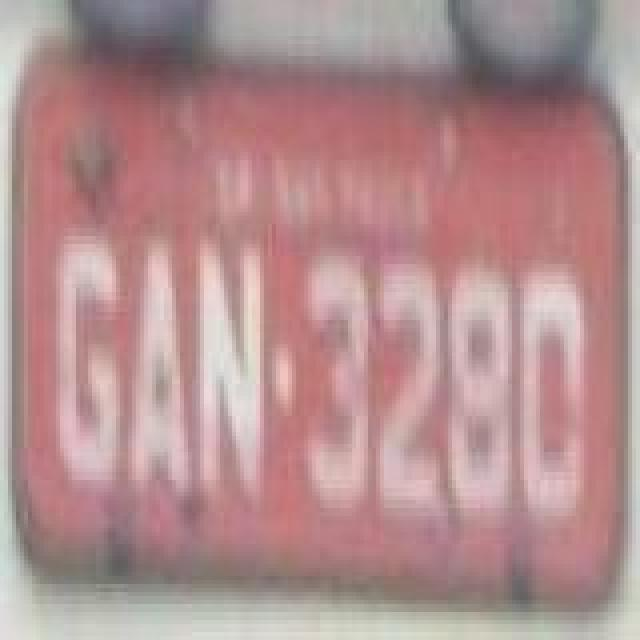2: (374, 264, 442, 520)
3: (300, 256, 372, 512)
8: (446, 264, 514, 520)
A: (128, 244, 192, 500)
G: (54, 232, 122, 488)
N: (198, 240, 266, 504)
O: (516, 268, 588, 524)
